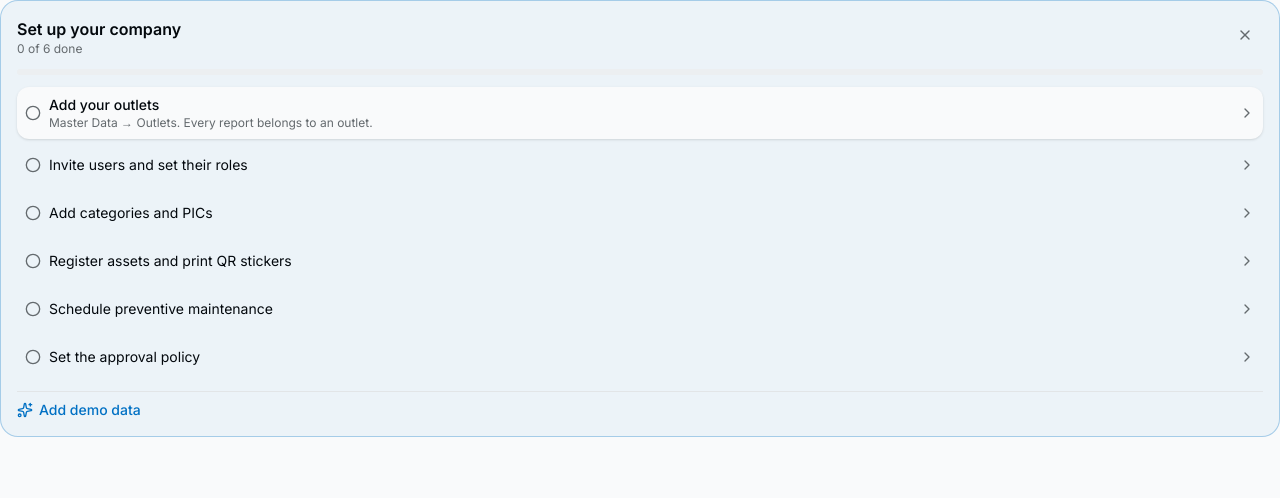
Scenario: OnboardingChecklist › demo data after confirming, then reloads the app data
This screenshot has width=1280, height=498.
Click the button "Add demo data".
click(79, 410)  # box [17, 400, 141, 420]
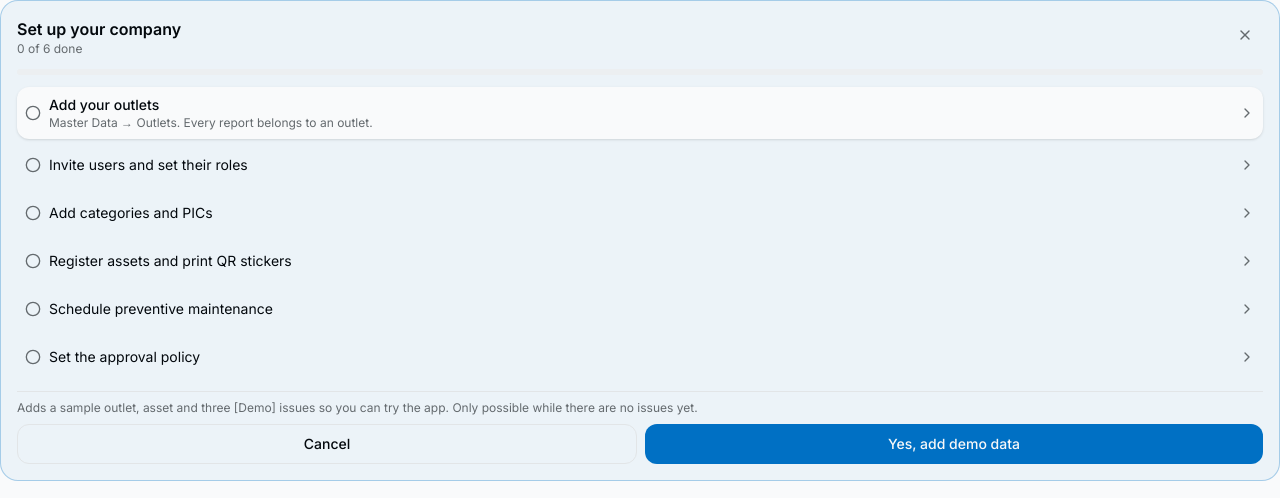
Click the button "Yes, add demo data".
click(954, 444)  # box [645, 424, 1263, 464]
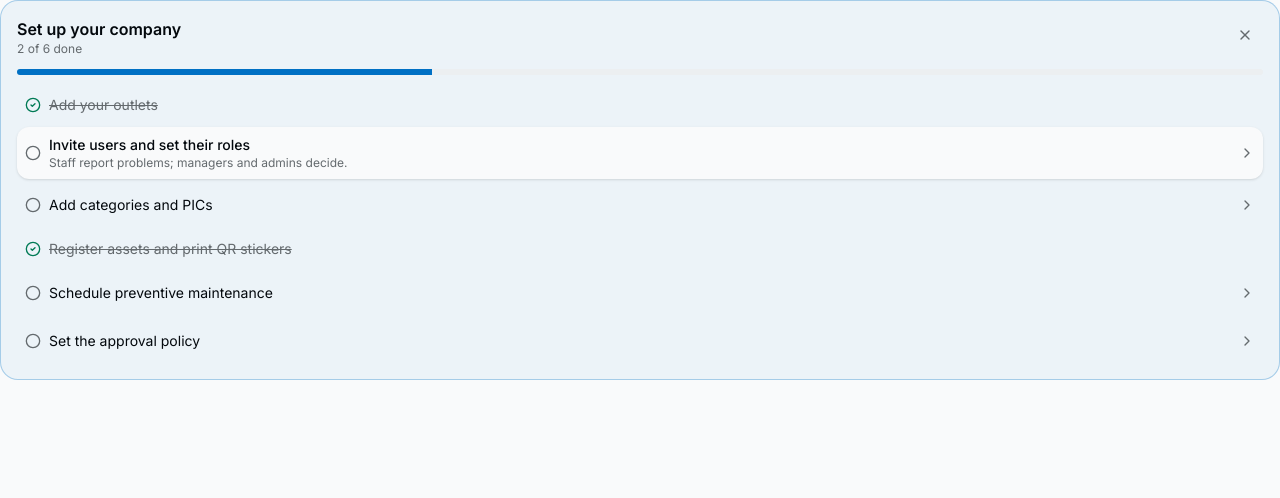
Expected: the text "2 of 6 done" is shown, [17, 41, 82, 56]
